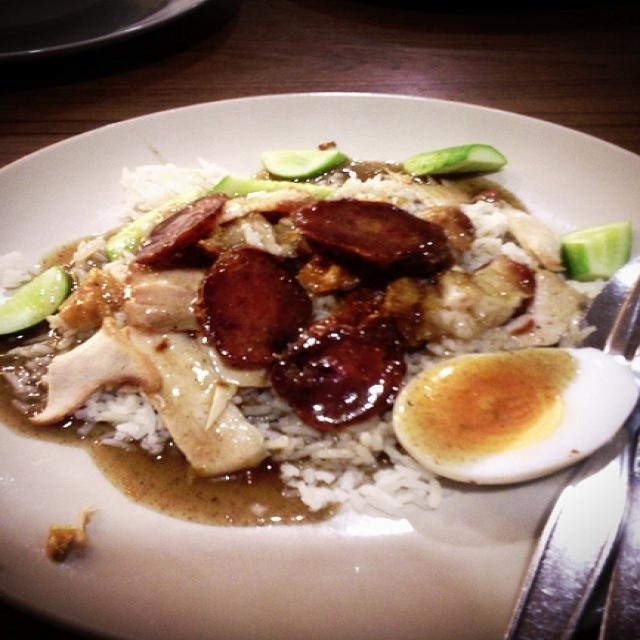猪肉菜式: (9, 58, 624, 602)
